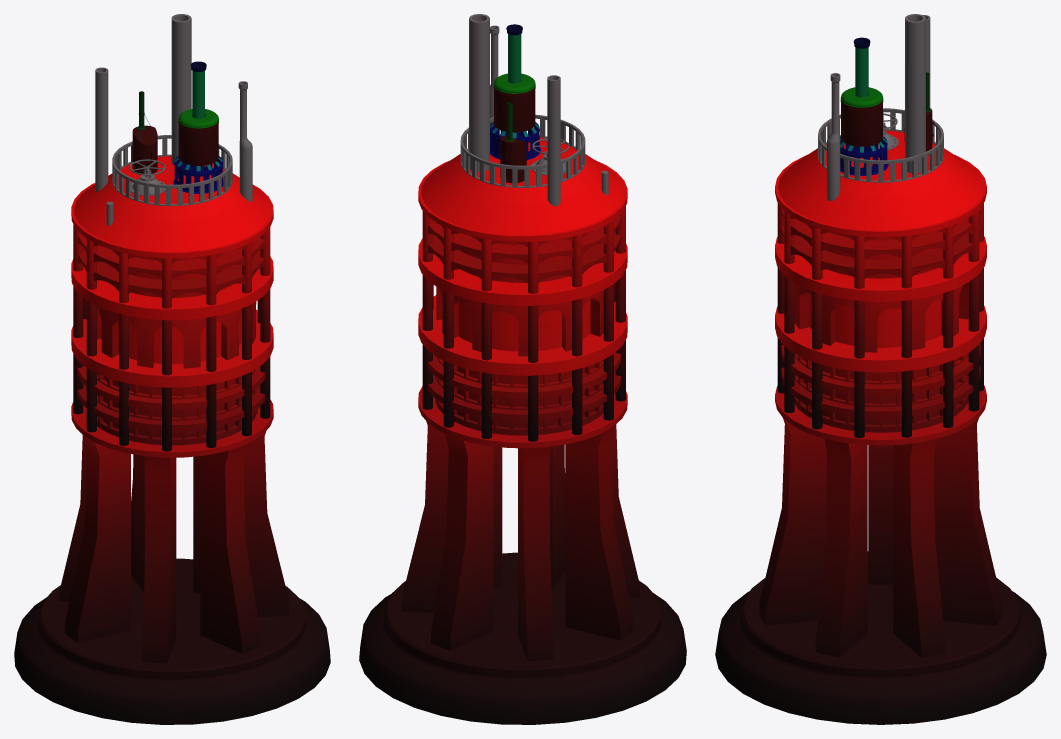
File: FidelionTower.glb
3 views of the same model, side by side, from view 1: azimuth 30°, elevation 25°; view 2: azimuth 150°, elevation 25°; view 3: azimuth 270°, elevation 25° (orthographic). The views are drawn at different scales.
Parts seen in each view (by area): view 1: Cylinder.001; view 2: Cylinder.001; view 3: Cylinder.001.
Boxes of the visible parts, left/top/right/bottom form: Cylinder.001: left=14, top=14, right=330, bottom=724; Cylinder.001: left=359, top=14, right=686, bottom=724; Cylinder.001: left=715, top=14, right=1046, bottom=724.
Size of the model in its own units: 3.58 by 7.74 by 3.58.
Materials: 2 (1 with a texture image).
